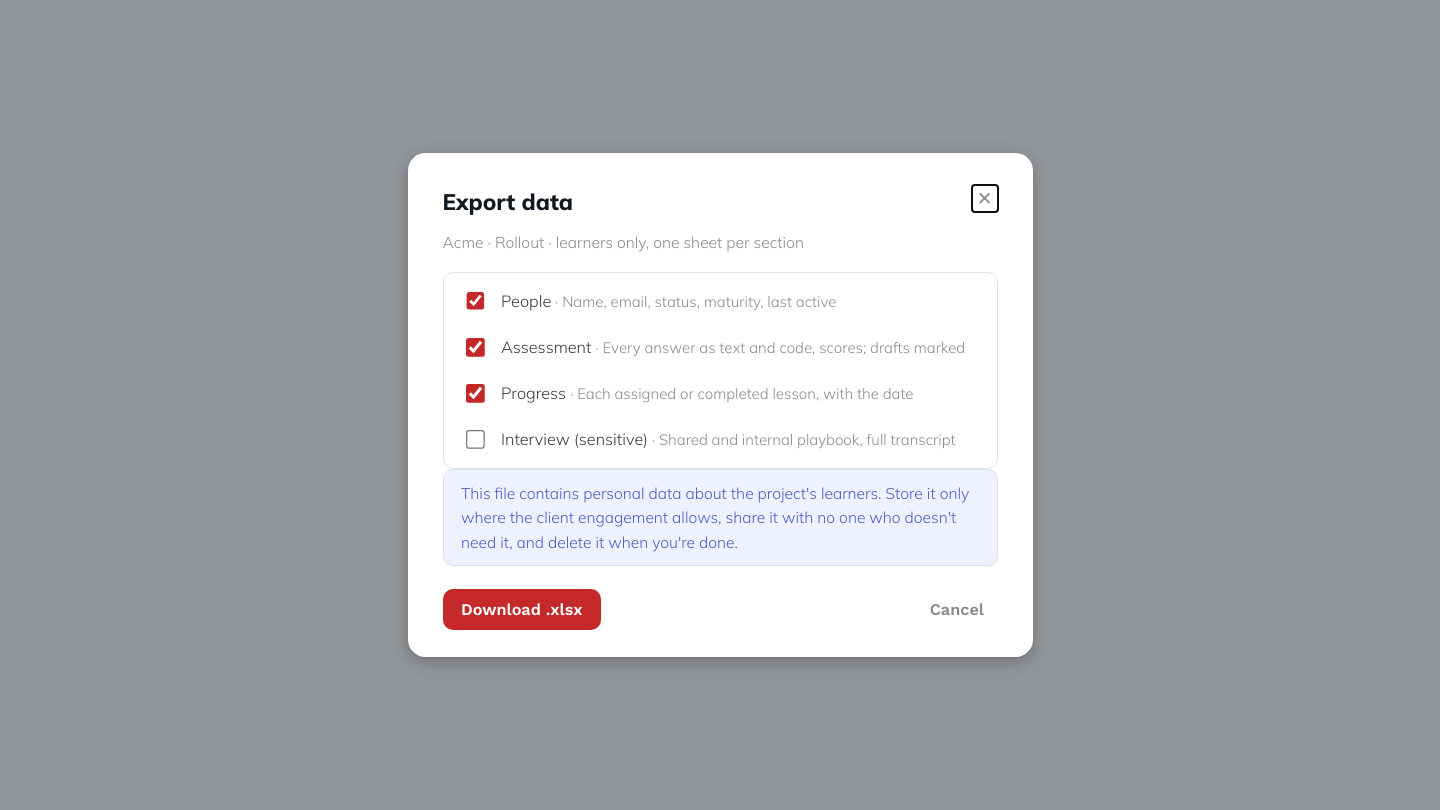
Test case: ExportModal › cannot download with nothing ticked
This screenshot has width=1440, height=810.
Click the checkbox labelled "People · Name, email, status, maturity, last active": (475, 301) [466,292,485,310]
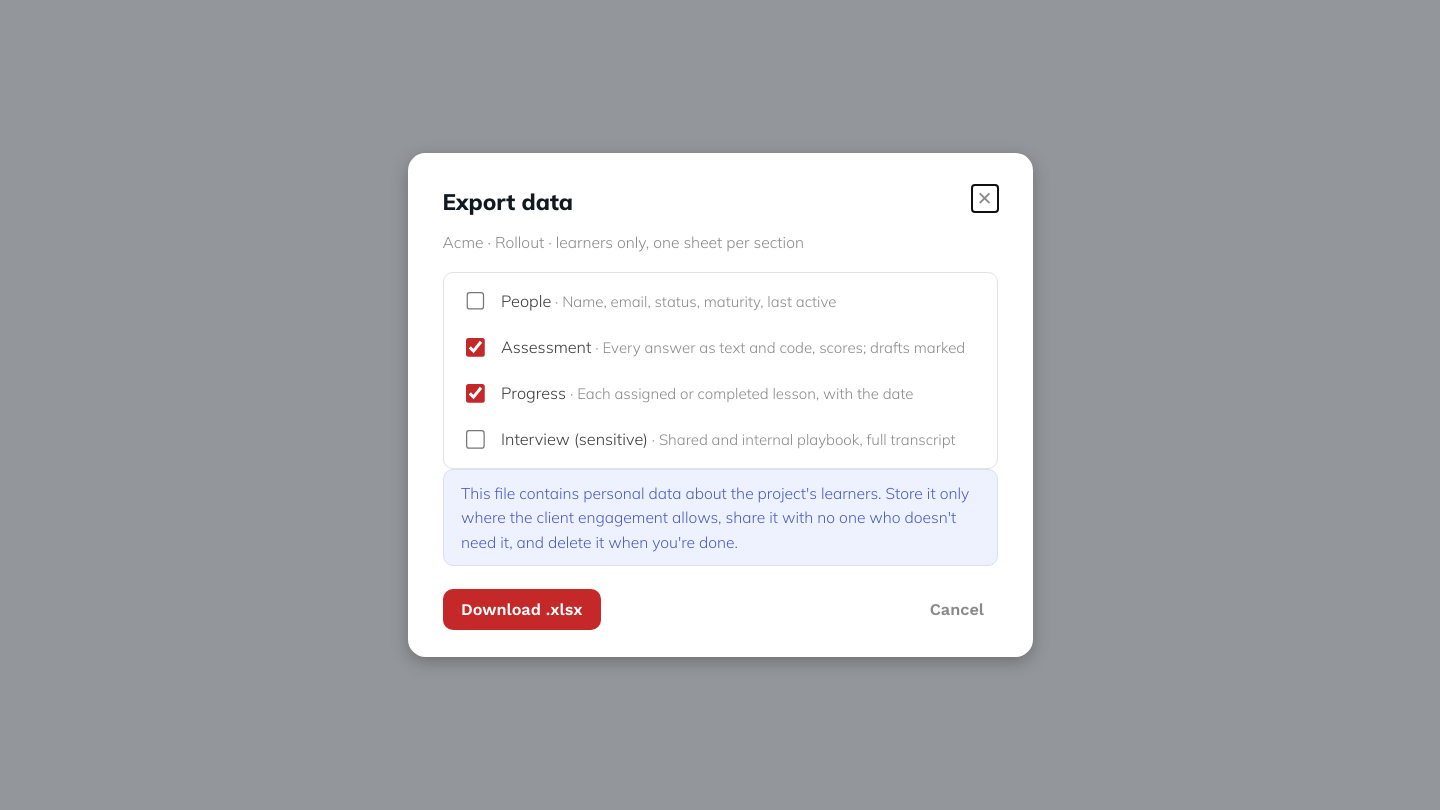
Click the checkbox labelled "Assessment": (475, 347) [466,338,485,357]
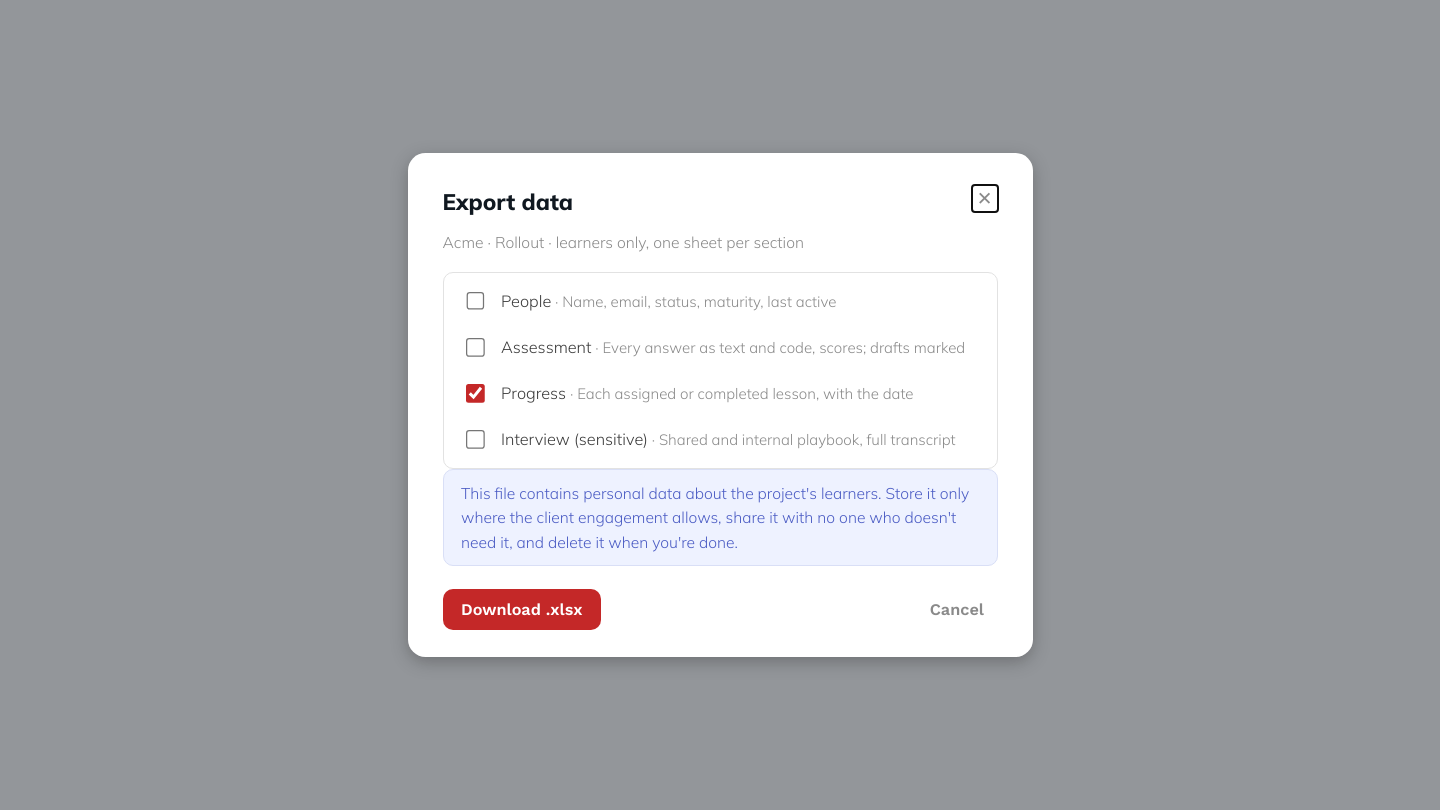
Click the checkbox labelled "Progress · Each assigned or completed lesson, with the date": (475, 394) [466,384,485,403]
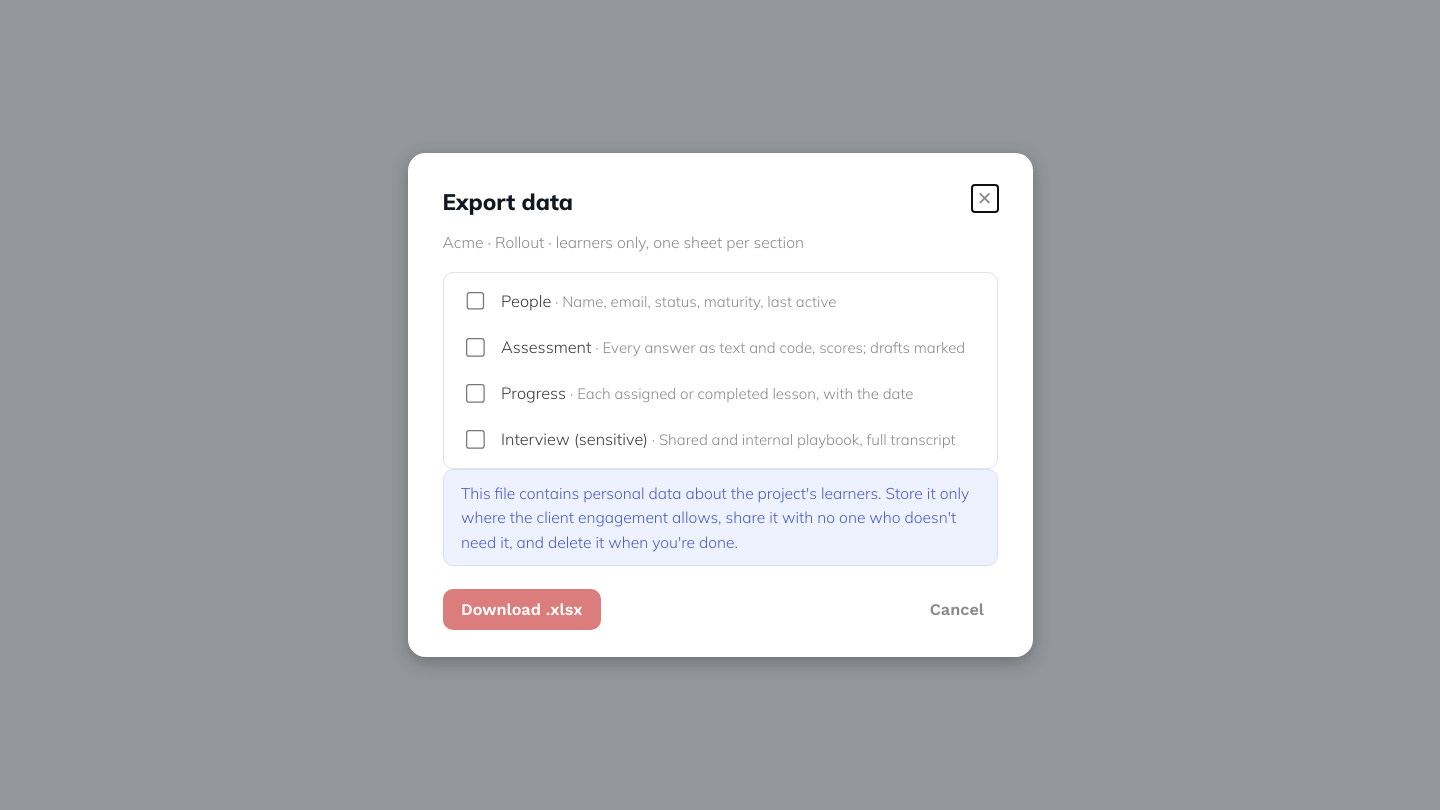
Expected: the button "Download .xlsx" is disabled, [442,589,601,630]
